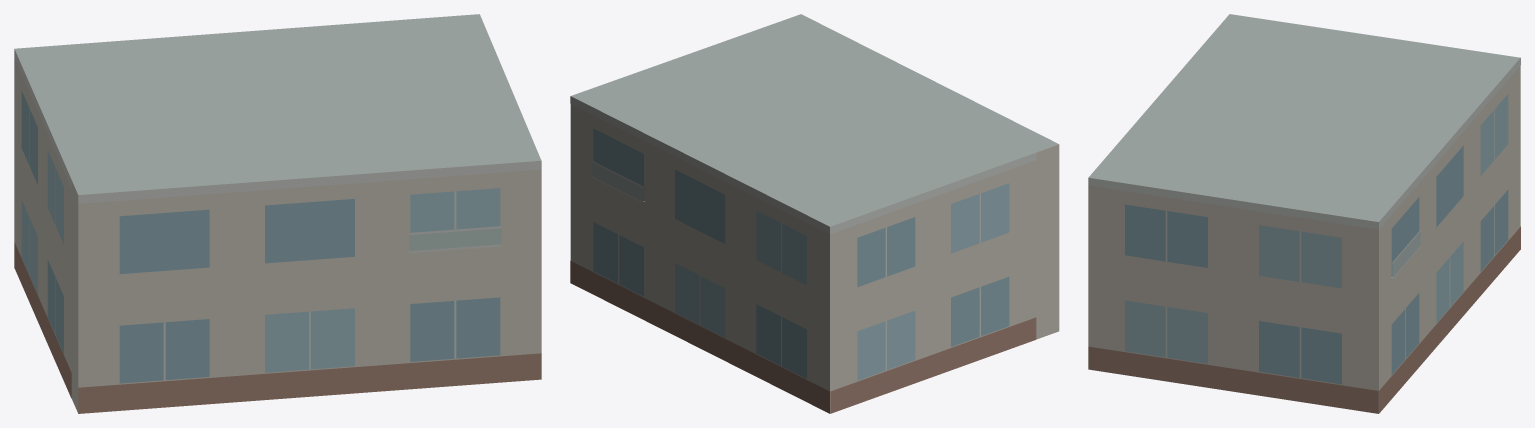
File: survey-upis-32913116.glb
The picture shows the model from 3 angles, left to right: view 1: azimuth 30°, elevation 25°; view 2: azimuth 150°, elevation 25°; view 3: azimuth 270°, elevation 25°; orthographic projection. The views are drawn at different scales.
Visible parts, largest first — view 1: survey-upis-32913116.tmp; view 2: survey-upis-32913116.tmp; view 3: survey-upis-32913116.tmp.
Part boxes in pixels (box(x1,y1,x2,y2)): survey-upis-32913116.tmp: box(14, 14, 541, 413); survey-upis-32913116.tmp: box(570, 14, 1059, 413); survey-upis-32913116.tmp: box(1088, 14, 1520, 413).
Size of the model in its own units: 14.21 by 6.1 by 12.48.
